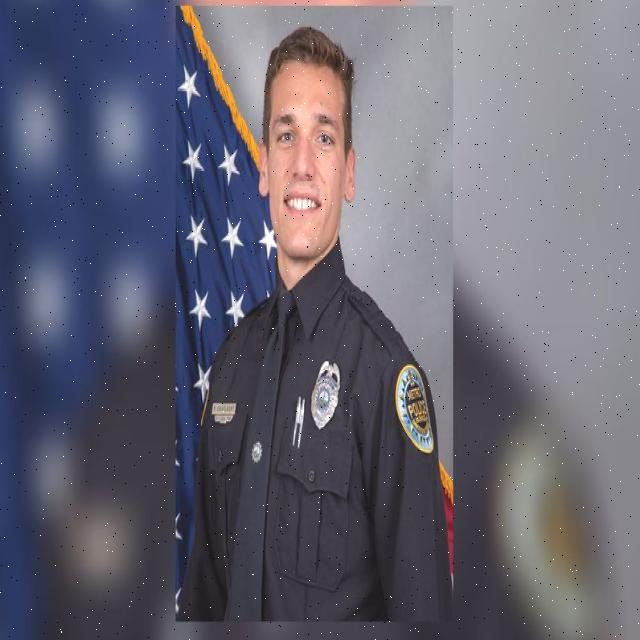police: (192, 5, 443, 640)
